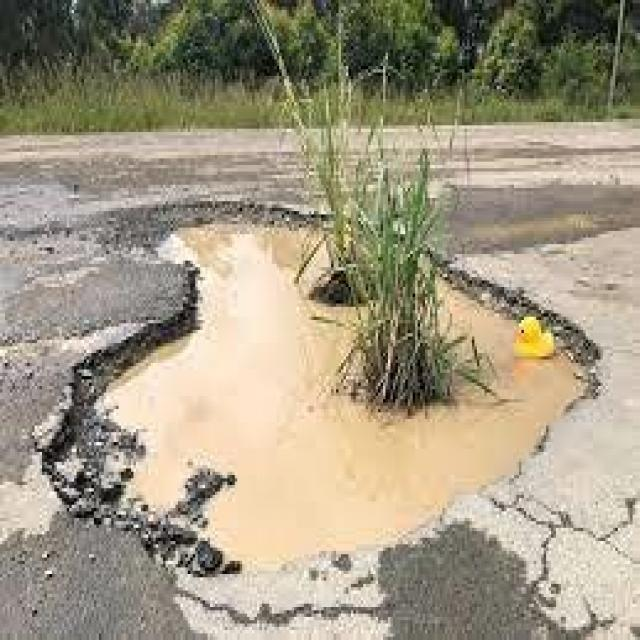Buraco: (38, 197, 610, 582)
